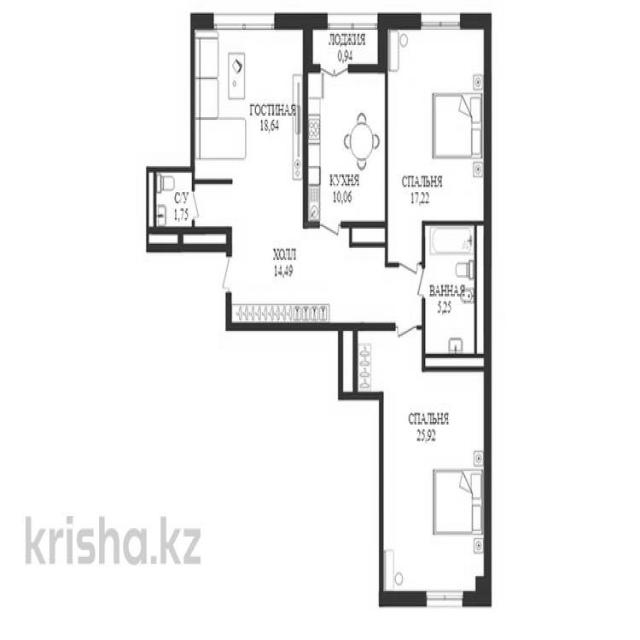balcony: (311, 14, 380, 68)
bathroom: (426, 224, 488, 368), (148, 170, 193, 245)
hallway: (230, 237, 384, 323), (387, 222, 425, 360), (196, 190, 304, 237)
kitchen: (306, 67, 379, 226)
living_room: (384, 368, 486, 601), (382, 19, 489, 221), (195, 23, 304, 184)
other: (343, 329, 384, 401)
